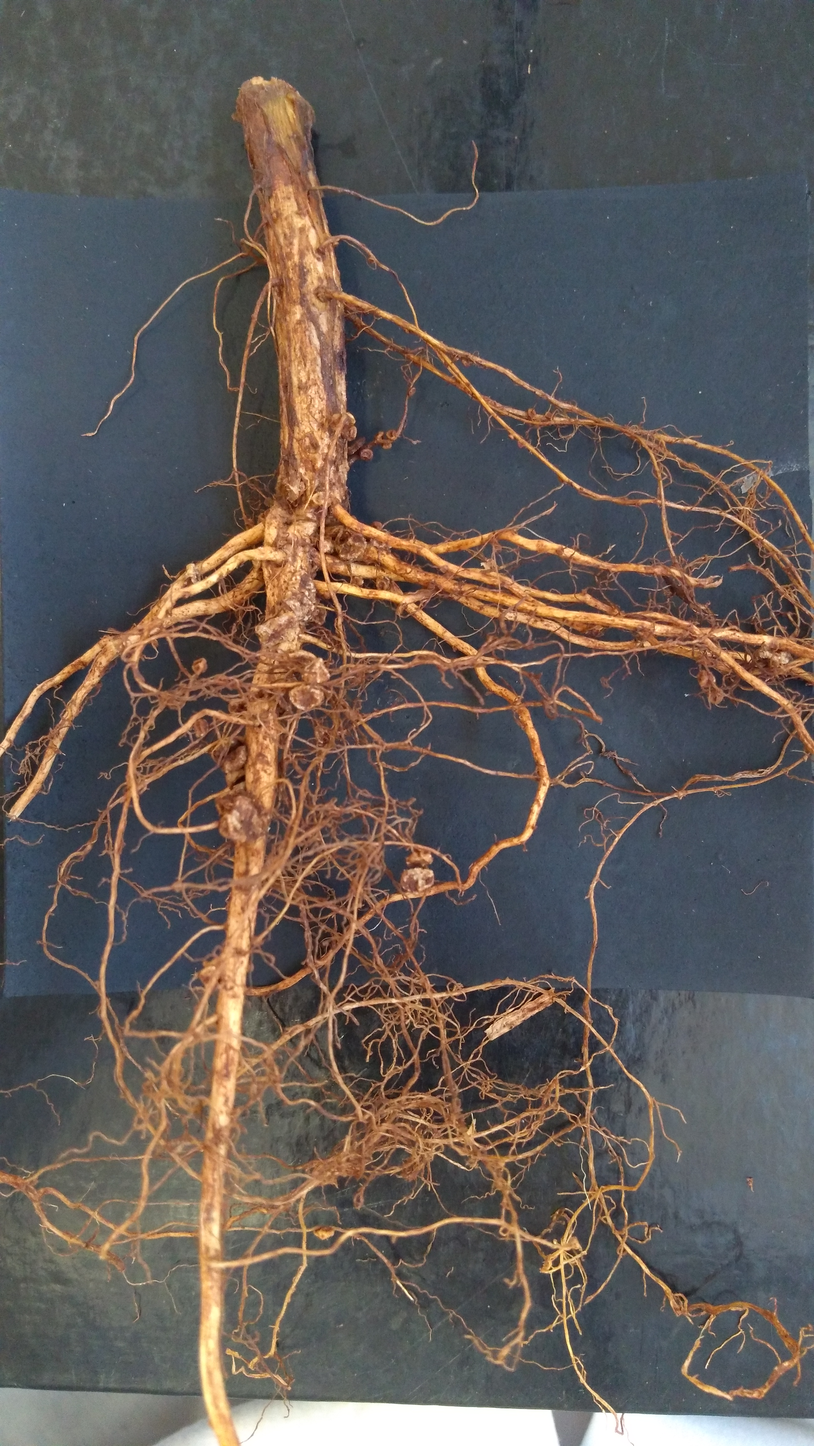nodule: (210, 792, 274, 845), (282, 569, 327, 623), (254, 611, 301, 646), (284, 682, 331, 713), (335, 528, 368, 565), (397, 866, 440, 893), (299, 655, 333, 687), (220, 744, 248, 774), (400, 848, 436, 870), (164, 684, 190, 712), (223, 765, 248, 791), (198, 964, 221, 992), (339, 411, 359, 443), (191, 716, 213, 743), (282, 477, 305, 501), (226, 694, 249, 716), (311, 1225, 338, 1242), (696, 668, 718, 688), (307, 486, 325, 507), (191, 655, 209, 676), (709, 686, 726, 706), (374, 573, 390, 592), (319, 538, 336, 554), (358, 448, 375, 462), (385, 428, 399, 441), (406, 385, 419, 398), (369, 519, 383, 531), (381, 440, 393, 451), (460, 356, 472, 367), (374, 430, 385, 441), (526, 408, 537, 419), (544, 410, 553, 421), (516, 439, 525, 450), (507, 433, 514, 440)
